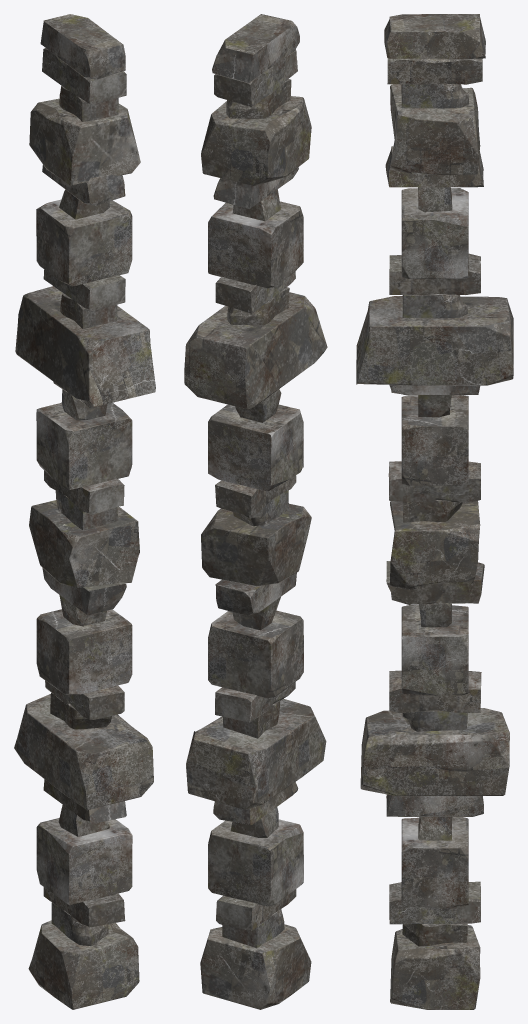
The model's file is SM_Castle_SeamHider_01.fbx.
3 renders of one model, left to right at view 1: azimuth 30°, elevation 25°; view 2: azimuth 150°, elevation 25°; view 3: azimuth 270°, elevation 25°, orthographic.
Parts seen in each view (by area): view 1: SM_Castle_SeamHider_01_LOD0; view 2: SM_Castle_SeamHider_01_LOD0; view 3: SM_Castle_SeamHider_01_LOD0.
Boxes of the visible parts, box(x1,y1,x2,y2) form: SM_Castle_SeamHider_01_LOD0: box(14, 14, 155, 1009); SM_Castle_SeamHider_01_LOD0: box(184, 14, 327, 1009); SM_Castle_SeamHider_01_LOD0: box(356, 14, 513, 1009).
Size of the model in its own units: 30.25 by 58.6 by 400.
